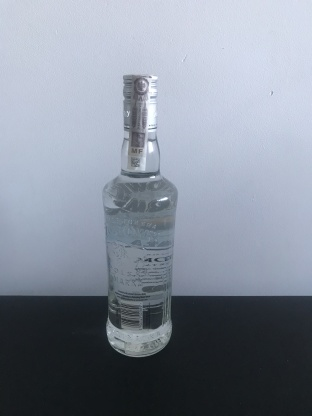nakretka: (119, 69, 161, 134)
